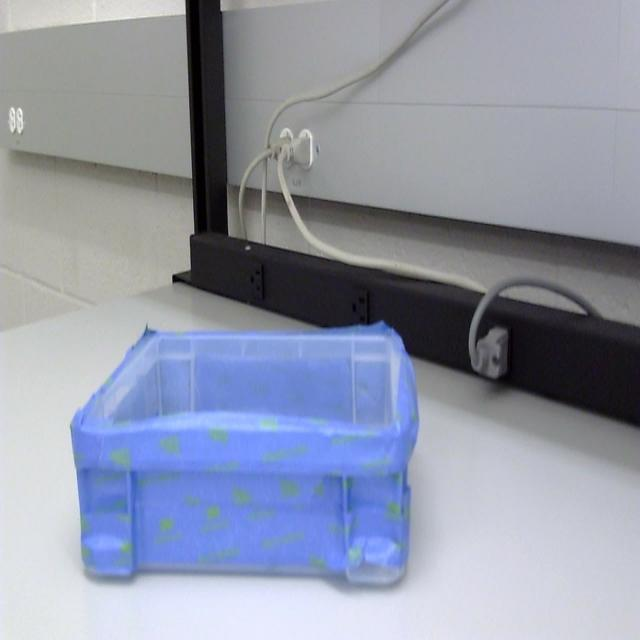bucket: (68, 323, 420, 593)
